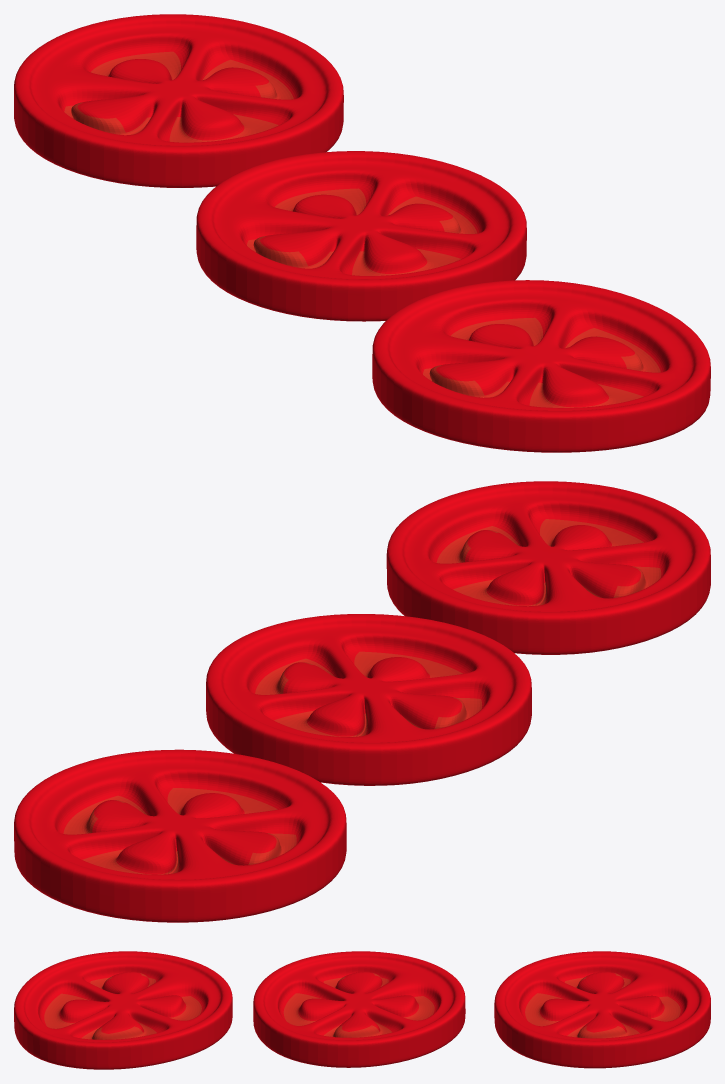
File: tomatoes.fbx
3 renders of one model, top to bottom at view 1: azimuth 30°, elevation 25°; view 2: azimuth 150°, elevation 25°; view 3: azimuth 270°, elevation 25°, orthographic. The views are drawn at different scales.
Visible parts, largest first — view 1: Circle.003, Circle.002, Circle.001; view 2: Circle.002, Circle.001, Circle.003; view 3: Circle.003, Circle.002, Circle.001.
Boxes of the visible parts, <box> form: Circle.003: <box>372,280,710,452</box>; Circle.002: <box>14,14,343,187</box>; Circle.001: <box>196,151,526,321</box>; Circle.002: <box>14,749,346,922</box>; Circle.001: <box>206,614,531,785</box>; Circle.003: <box>386,481,710,654</box>; Circle.003: <box>14,951,232,1069</box>; Circle.002: <box>494,951,710,1068</box>; Circle.001: <box>253,951,465,1067</box>.
Size of the model in its own units: 186 by 29.79 by 596.
